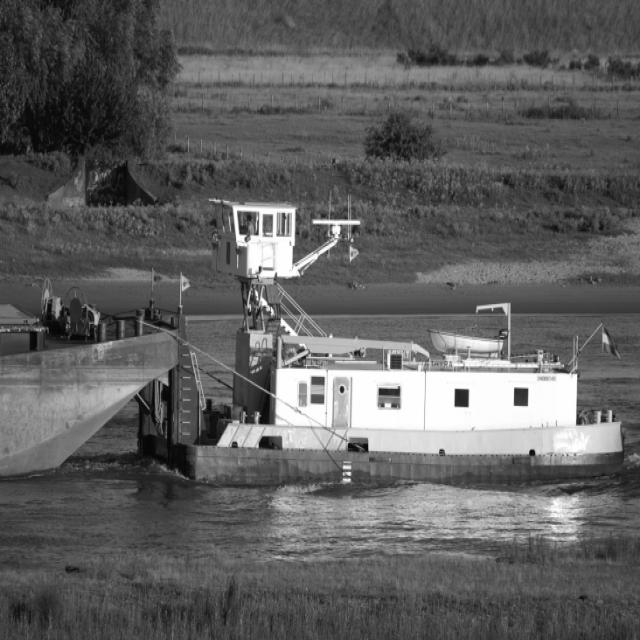tugboat: (135, 193, 632, 500)
